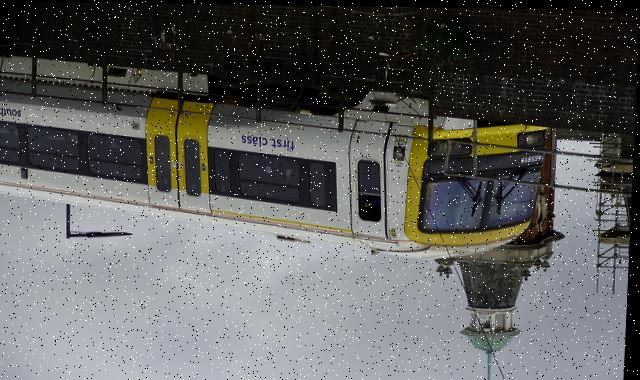train: (0, 43, 549, 260)
